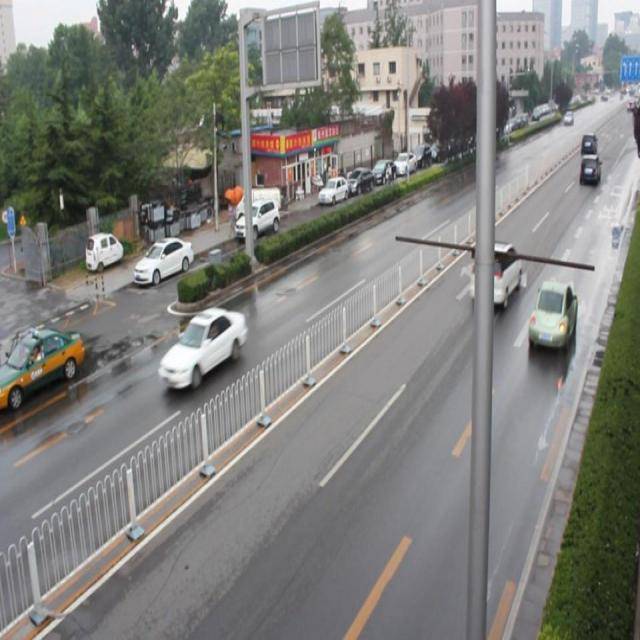car: (158, 304, 246, 394), (470, 240, 521, 312), (527, 278, 574, 354)
truck: (577, 156, 599, 188)
